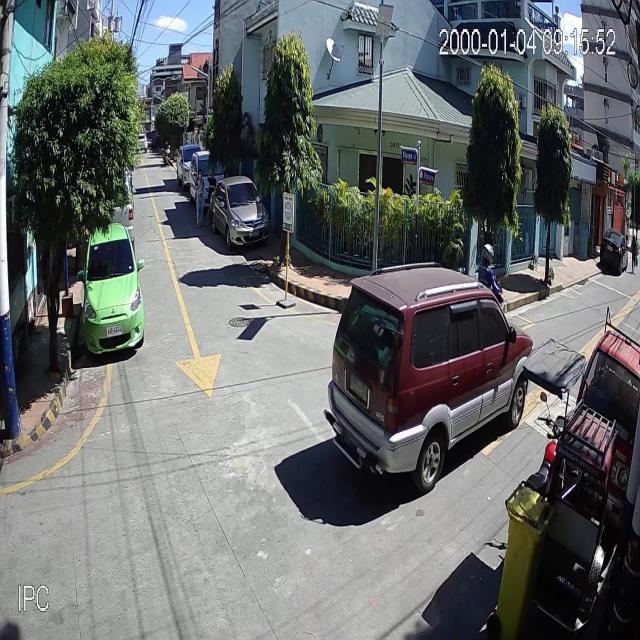standing: (206, 167, 217, 227), (196, 170, 205, 229)
